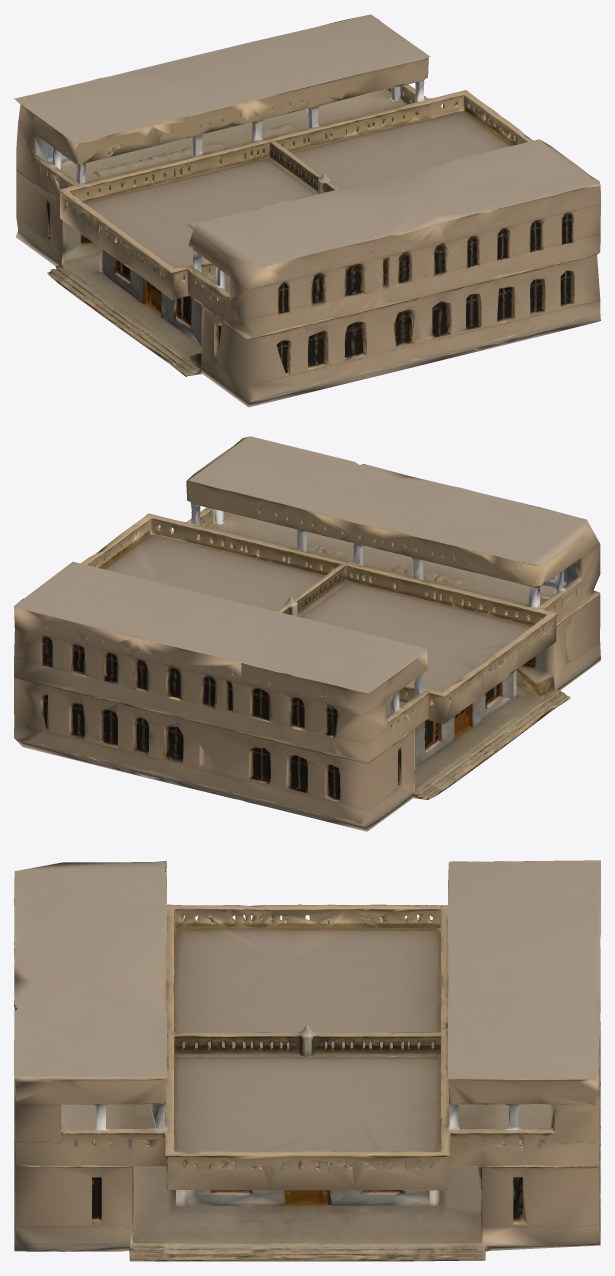
Rendered from MikeVanDaeleHall.glb.
The picture shows the model from 3 angles, top to bottom: view 1: azimuth 30°, elevation 25°; view 2: azimuth 150°, elevation 25°; view 3: azimuth 270°, elevation 25°; orthographic projection. The views are drawn at different scales.
Parts seen in each view (by area): view 1: tripo_node_9a25ca02-6a50-44ff-b3cd-2f3436ac218b; view 2: tripo_node_9a25ca02-6a50-44ff-b3cd-2f3436ac218b; view 3: tripo_node_9a25ca02-6a50-44ff-b3cd-2f3436ac218b.
Boxes of the visible parts, x1,y1,x2,y2 form: tripo_node_9a25ca02-6a50-44ff-b3cd-2f3436ac218b: (14,14,600,407); tripo_node_9a25ca02-6a50-44ff-b3cd-2f3436ac218b: (14,436,600,831); tripo_node_9a25ca02-6a50-44ff-b3cd-2f3436ac218b: (14,860,600,1261).
Bounding box in the file's own units: 0.9782 × 0.317 × 0.9675.
1 material, 1 textured.
